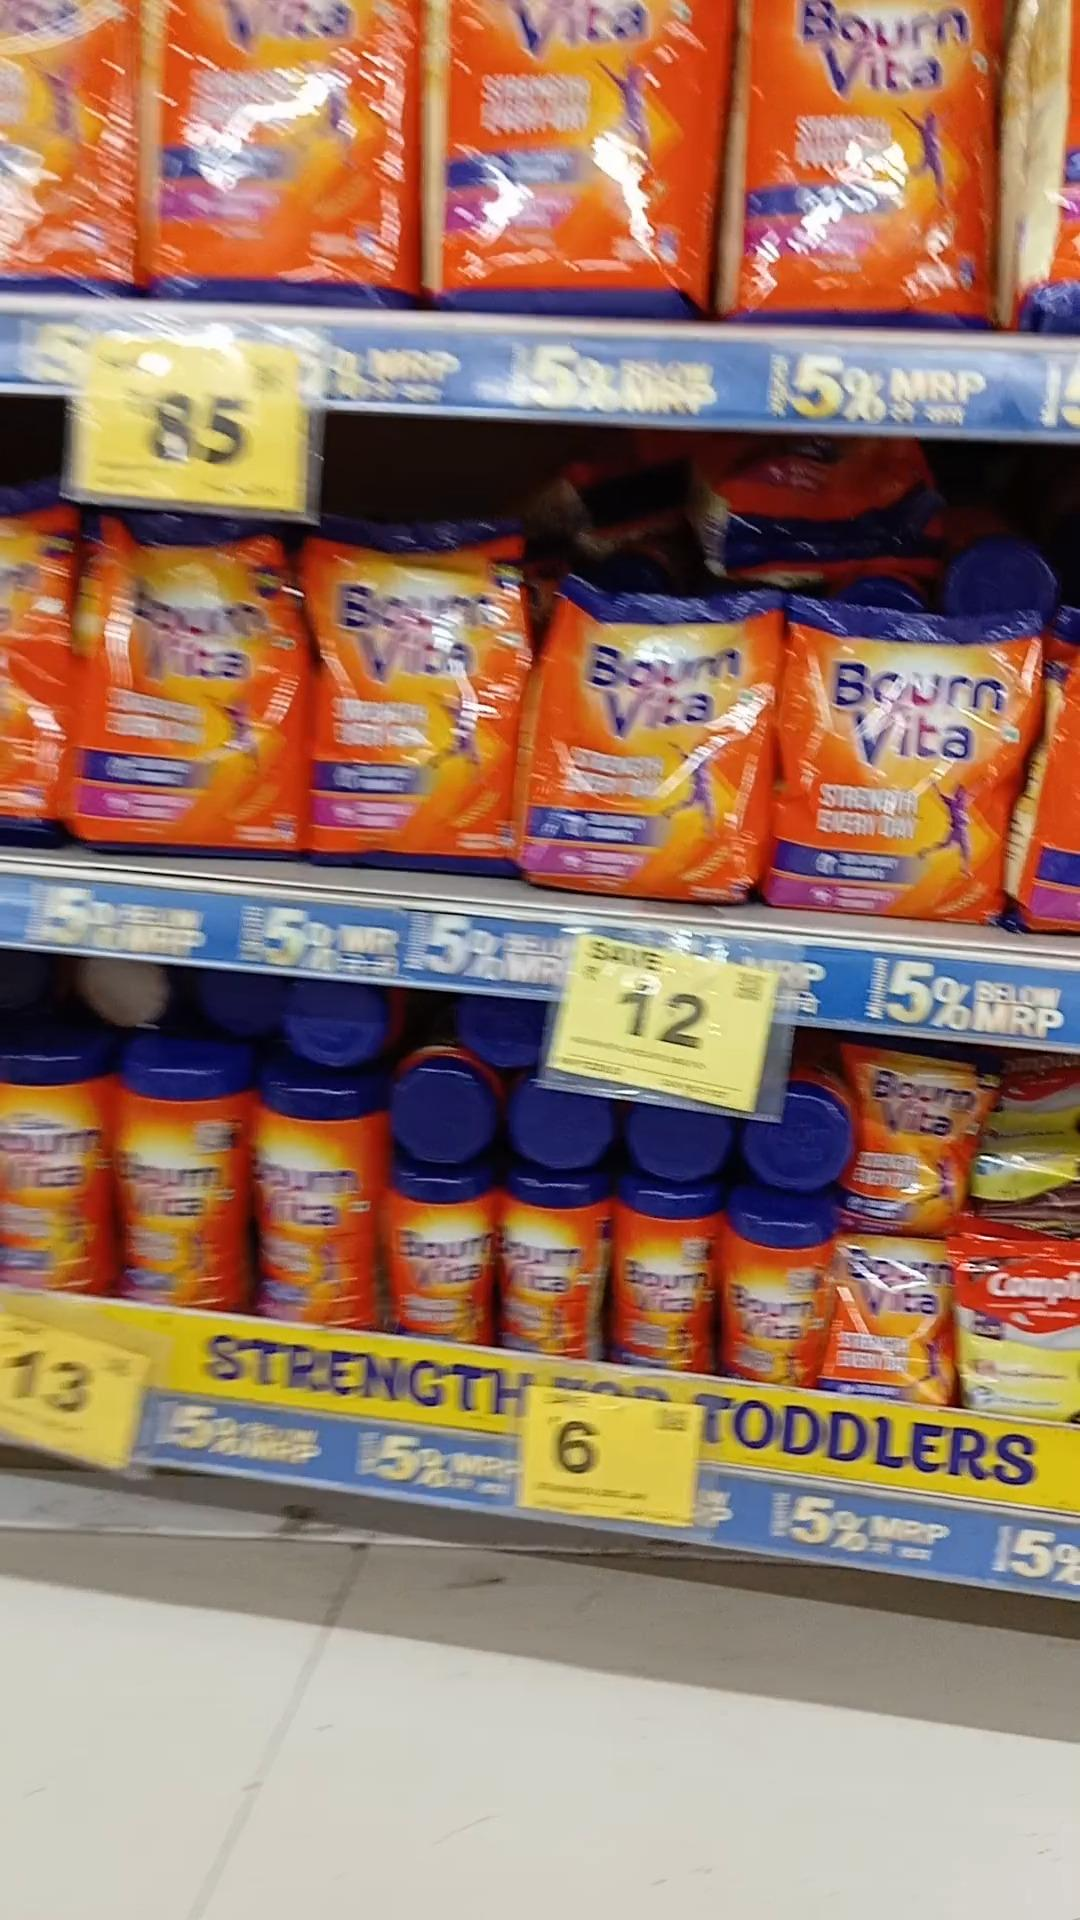BOURN_VITA_200_G_JAR: (498, 1175, 608, 1357), (724, 1200, 824, 1382), (392, 1160, 492, 1336), (616, 1193, 712, 1369)
BOURN_VITA_500_G_JAR: (116, 1048, 248, 1305), (256, 1083, 385, 1325), (0, 1050, 109, 1292)
BOURN_VITA_500_G_POUCH: (541, 579, 748, 901), (790, 596, 994, 919)
BOURN_VITA_750_G_POUCH: (79, 510, 291, 856), (311, 517, 516, 861)
BOURN_VITA_75_G_POUCH: (836, 1236, 948, 1398)
